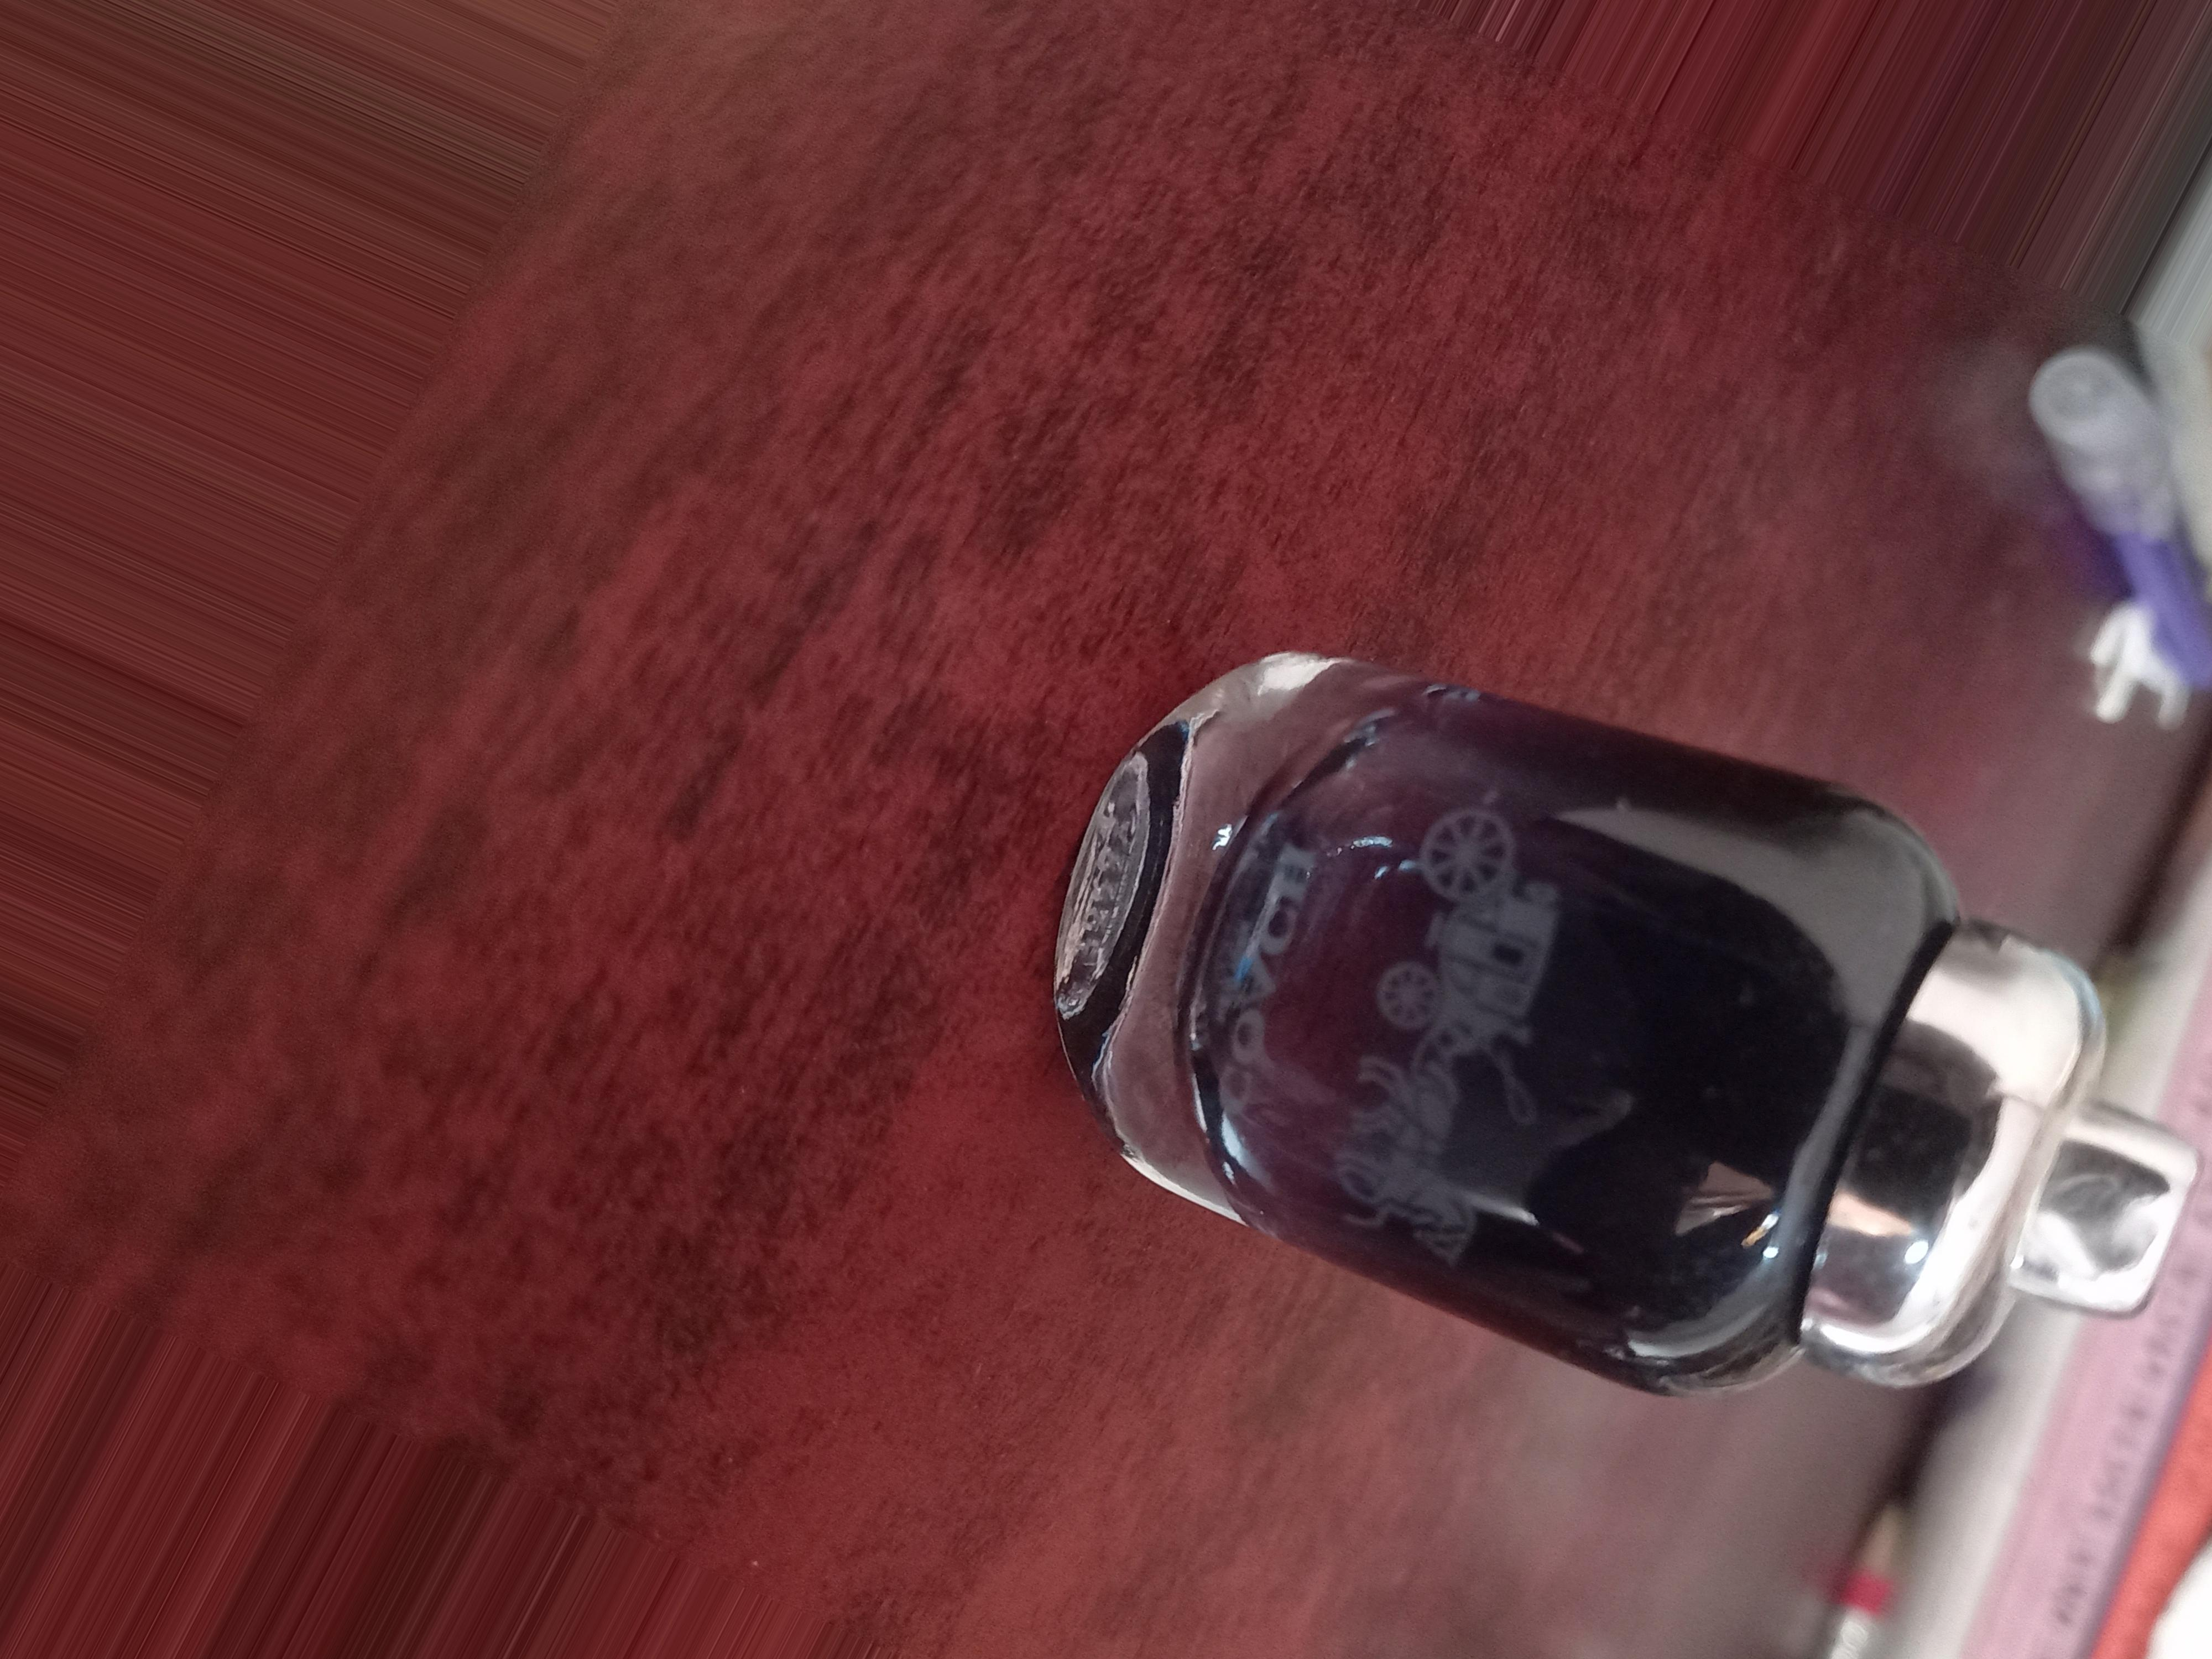perfume: (1057, 681, 1956, 1403)
